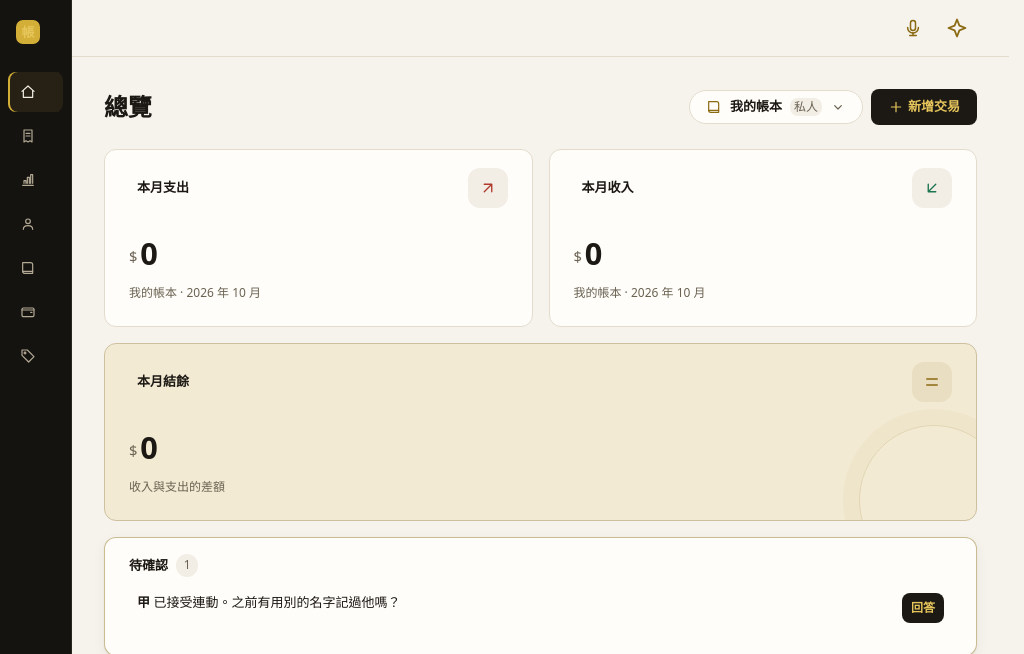
Test: PendingCard › shows merge prompt options, keeps the row on later, and removes it after answering
The width and height of the screenshot is (1024, 654).
Check: the button "新增交易" is shown, box x1=871 y1=89 x2=977 y2=125
Check: the list item shows "甲 已接受連動。之前有用別的名字記過他嗎？", box x1=129 y1=584 x2=952 y2=630
Click the button "回答": (923, 608) x1=902 y1=592 x2=944 y2=622
(page scrolled)
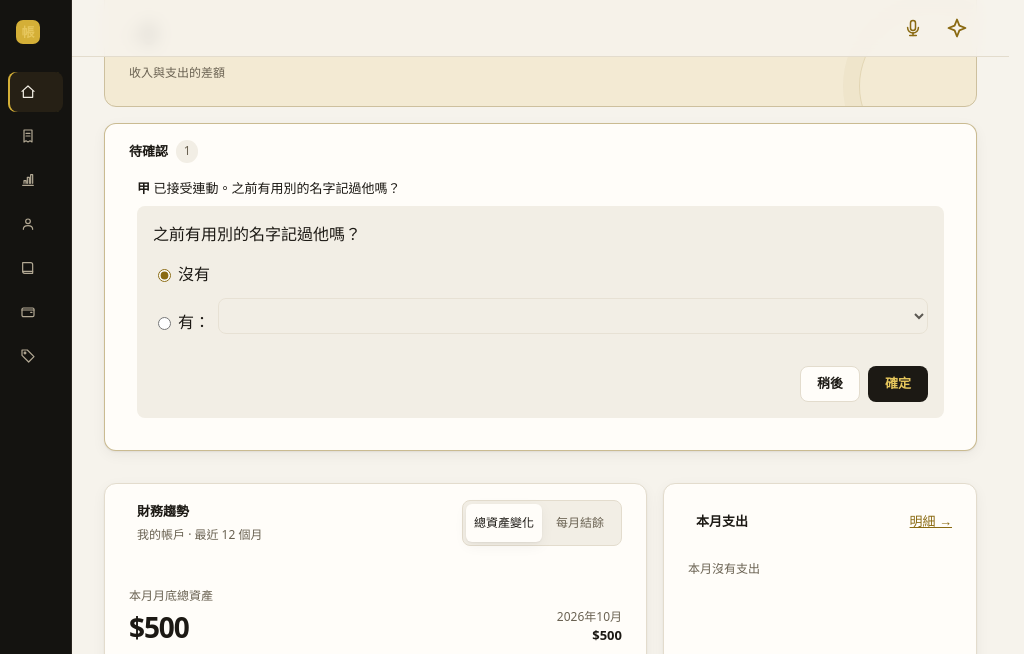
Check: the radio button labelled "沒有" is shown, box x1=158 y1=269 x2=171 y2=282
Check: the radio button labelled "有：" is shown, box x1=158 y1=317 x2=171 y2=330
Click the button "稍後": (830, 384) x1=800 y1=366 x2=860 y2=402
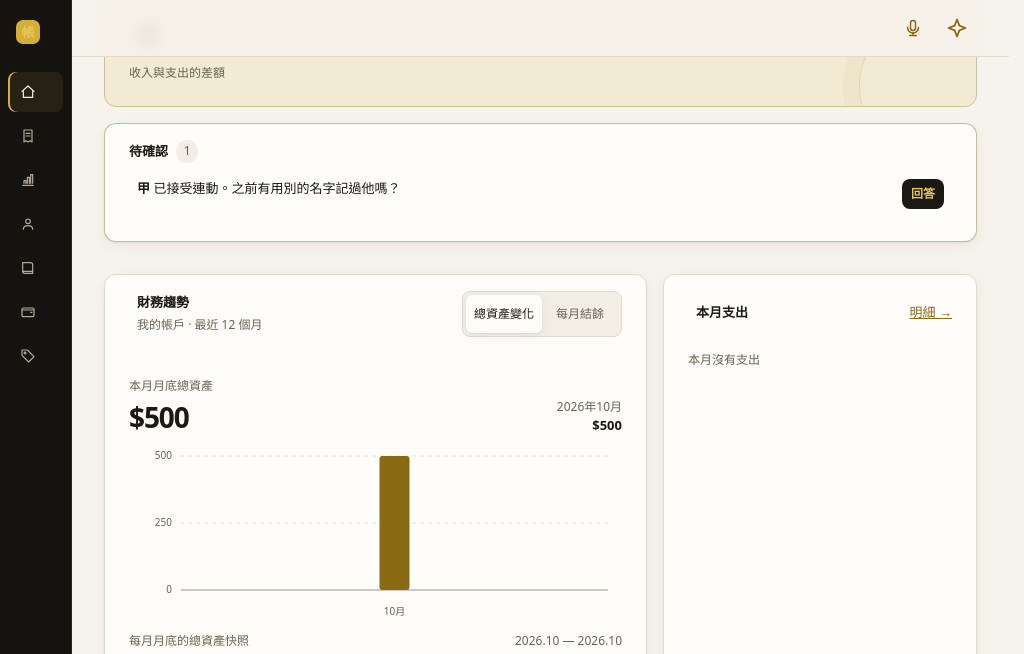
Check: the list item "甲 已接受連動。之前有用別的名字記過他嗎？ 回答" is shown, box x1=129 y1=170 x2=952 y2=216
Click the button "回答": (923, 194) x1=902 y1=178 x2=944 y2=208
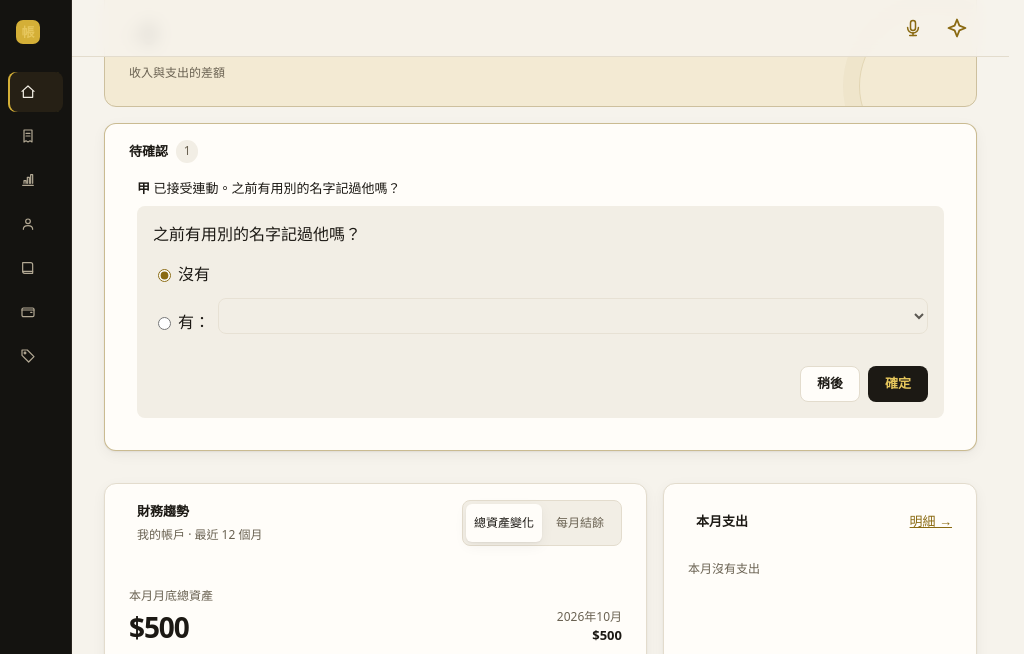
Click the button "確定": (898, 384) x1=868 y1=366 x2=928 y2=402
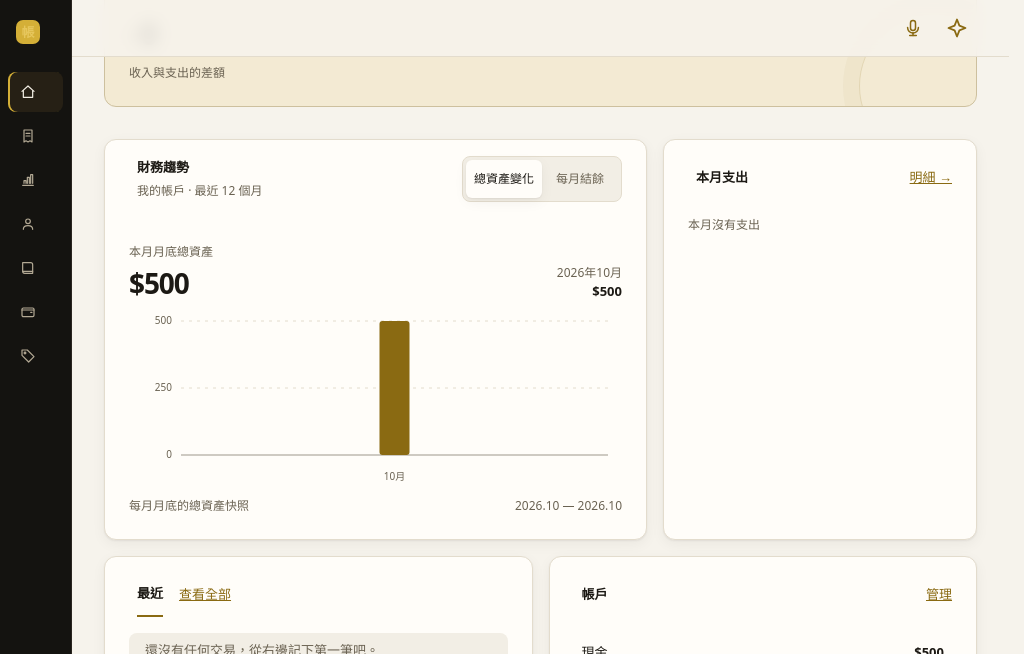
Check: the heading "待確認" is gone
